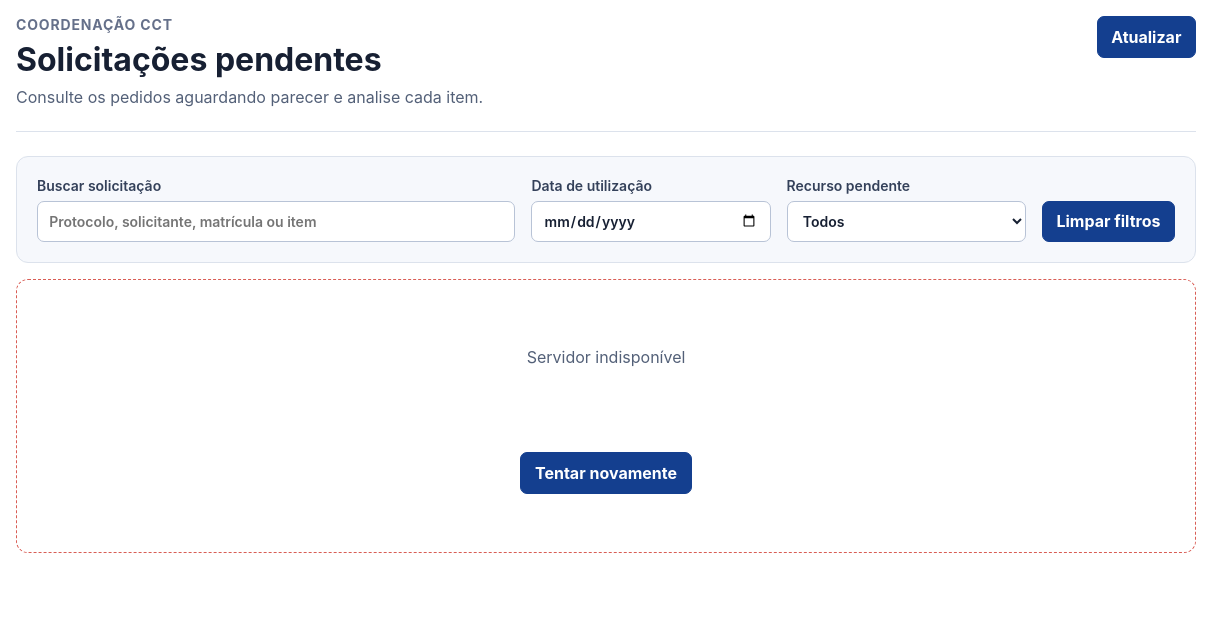
Test case: Pendências pela API › permite tentar novamente após falha e mostra fila vazia
Check: the message shows "Servidor indisponível", box 527,347 -> 685,367
Click the button "Tentar novamente" at (606,473), box 520,452 -> 692,494
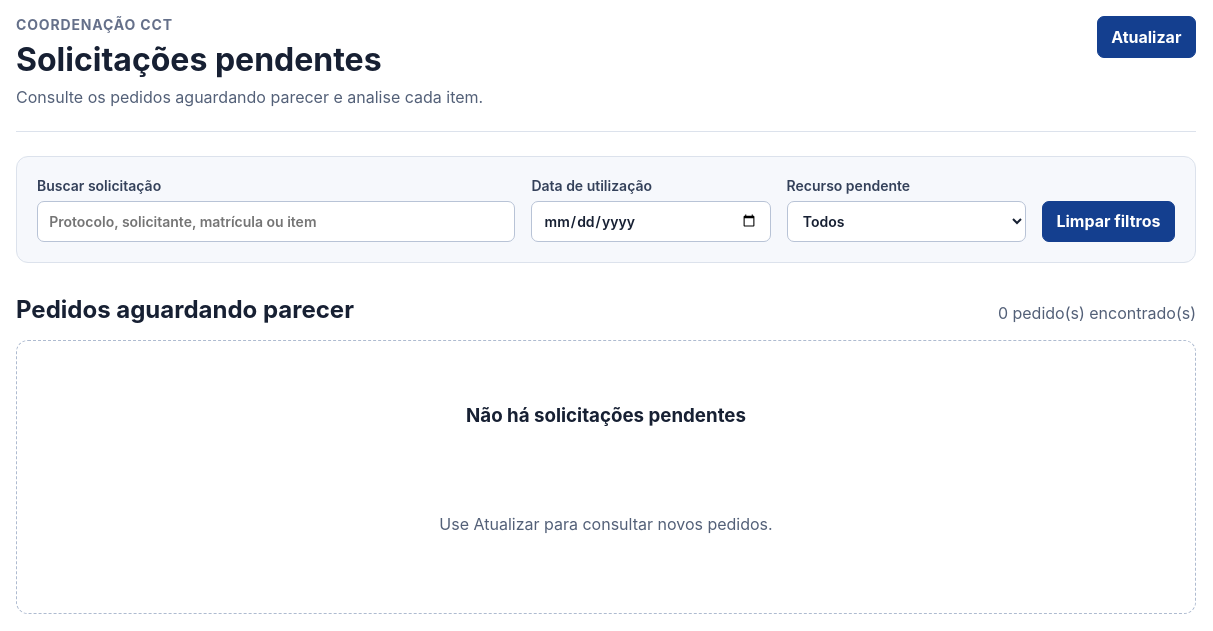
Check: the heading "Não há solicitações pendentes" is shown, box 466,404 -> 746,427
